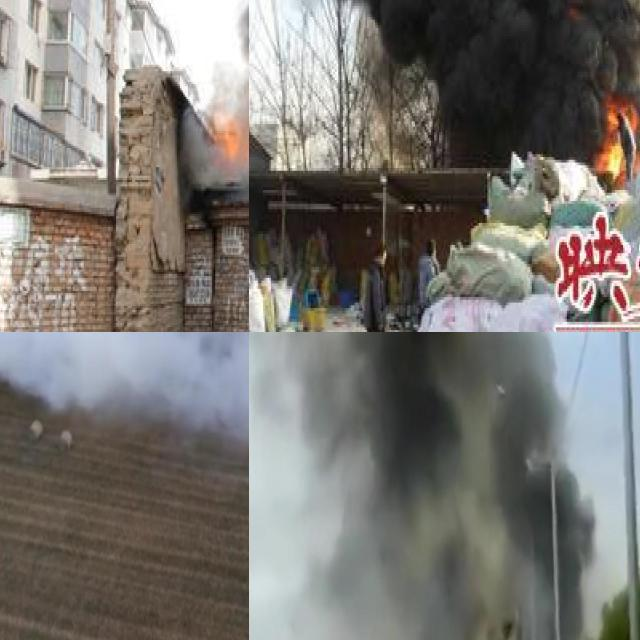fire: (199, 84, 249, 193), (595, 96, 640, 179)
smoke: (253, 332, 594, 640), (249, 0, 640, 160), (0, 332, 249, 443)
